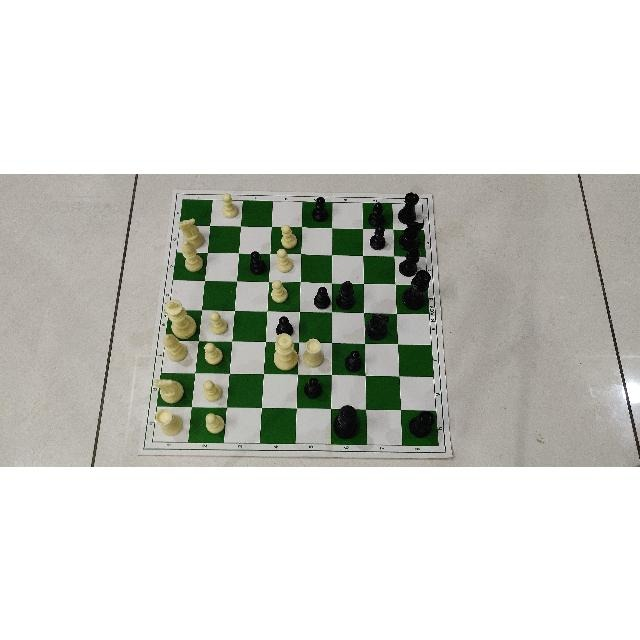black-bishop: (397, 246, 422, 277), (398, 244, 421, 277), (334, 279, 355, 311), (335, 279, 355, 310)
black-king: (331, 405, 361, 441), (332, 404, 360, 440)
black-knight: (398, 219, 424, 250), (398, 220, 424, 250), (365, 312, 389, 342), (365, 312, 389, 340)
black-pawn: (301, 373, 326, 401), (310, 284, 334, 312), (301, 376, 326, 402), (247, 248, 269, 277), (311, 194, 332, 224), (248, 248, 269, 277), (312, 284, 333, 312), (310, 193, 329, 223), (370, 222, 389, 251), (311, 194, 331, 221), (345, 348, 365, 374), (368, 199, 388, 224), (313, 283, 331, 310), (344, 349, 364, 373), (368, 201, 386, 227), (249, 250, 267, 276), (275, 314, 294, 338), (345, 347, 362, 373), (304, 376, 324, 398), (370, 223, 386, 248), (273, 314, 296, 331)
black-queen: (400, 269, 431, 311), (402, 268, 432, 309)
black-rook: (407, 410, 434, 440), (409, 408, 435, 439), (398, 189, 420, 224), (398, 190, 420, 224)
white-bishop: (179, 239, 205, 272), (162, 331, 189, 362), (180, 238, 203, 272), (162, 333, 188, 363)
white-king: (164, 298, 198, 339), (164, 298, 198, 338)
white-knight: (177, 215, 205, 250), (178, 216, 205, 249), (152, 377, 183, 405), (152, 376, 184, 402)
white-pawn: (206, 308, 232, 336), (200, 377, 228, 402), (201, 411, 229, 434), (268, 277, 291, 304), (202, 340, 226, 365), (203, 340, 227, 365), (274, 246, 296, 273), (207, 310, 230, 335), (202, 412, 227, 434), (201, 376, 223, 401), (279, 222, 299, 249), (204, 340, 224, 366), (274, 247, 294, 273), (270, 278, 290, 304), (279, 222, 298, 249), (202, 378, 222, 402), (205, 411, 225, 435), (221, 192, 239, 218), (276, 248, 294, 274), (210, 310, 228, 335), (280, 223, 297, 249), (271, 277, 288, 302)
white-queen: (272, 331, 300, 370)
white-rook: (152, 407, 187, 437), (154, 406, 184, 438), (303, 336, 329, 370), (301, 337, 326, 368), (156, 408, 183, 436), (303, 336, 324, 367)
